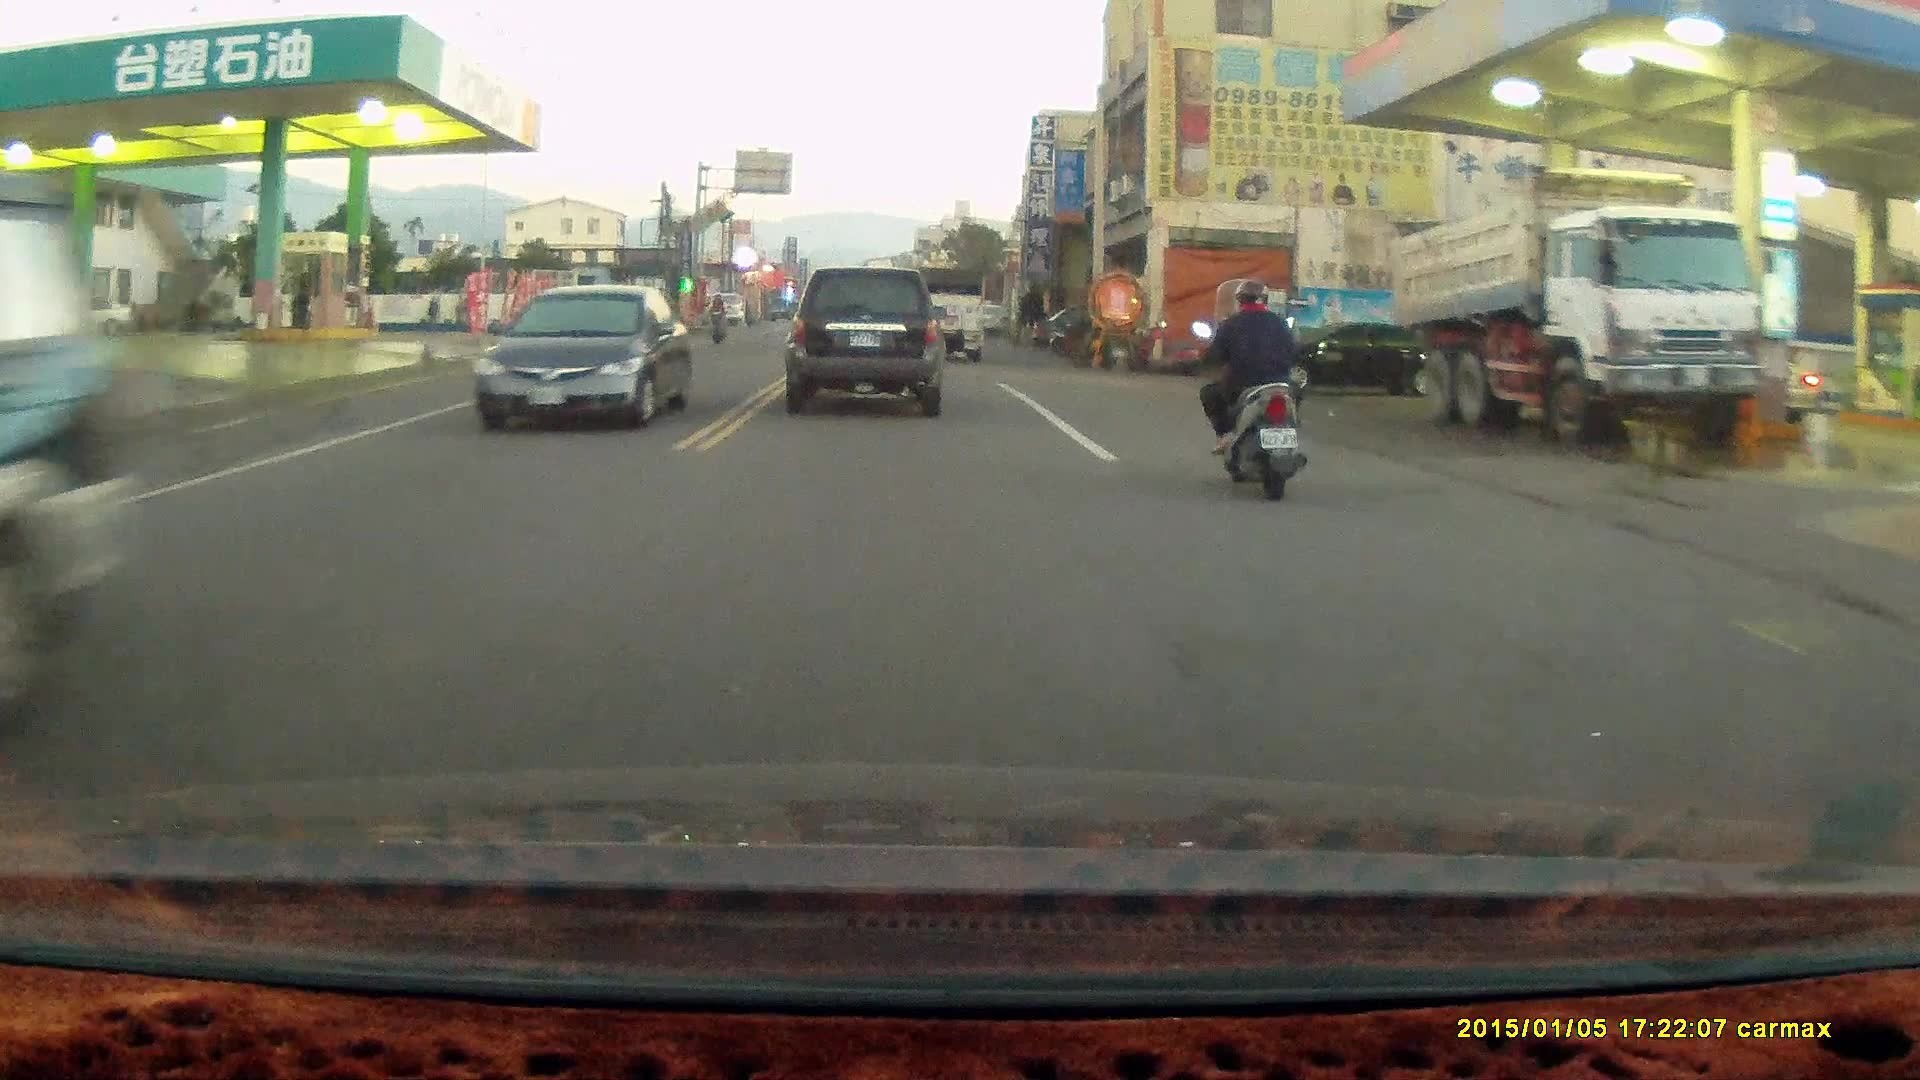rider: (1189, 275, 1306, 501), (702, 291, 729, 347)
vehicle: (1390, 158, 1757, 447), (478, 281, 692, 431), (785, 262, 950, 412), (1278, 324, 1429, 399), (907, 263, 990, 365)
